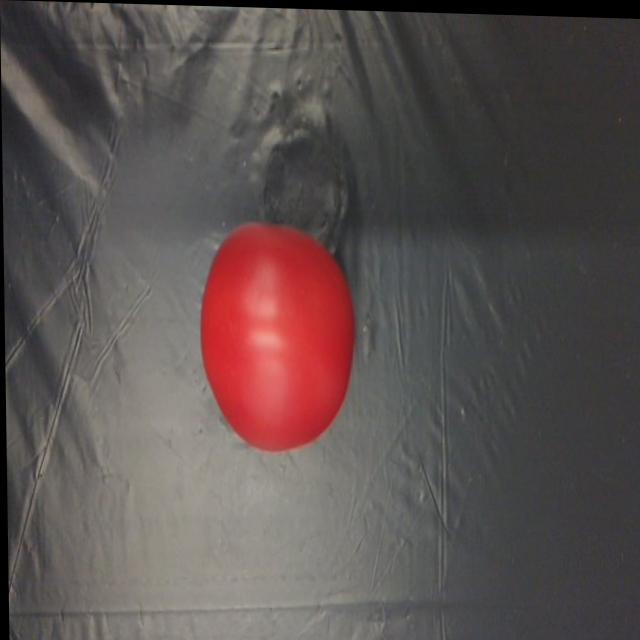kirmizi: (187, 204, 360, 450)
